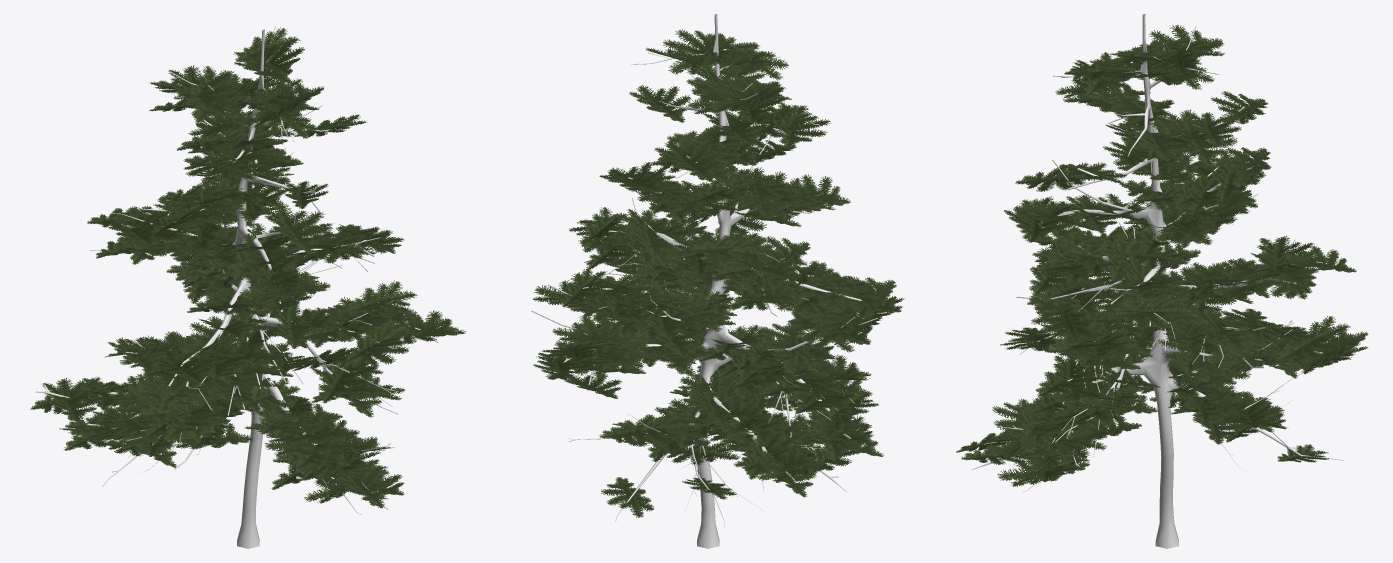
The model's file is Pine3.fbx.
The picture shows the model from 3 angles, left to right: view 1: azimuth 30°, elevation 25°; view 2: azimuth 150°, elevation 25°; view 3: azimuth 270°, elevation 25°; orthographic projection. The views are drawn at different scales.
Parts seen in each view (by area): view 1: tree.006|pngtree-natural-pine-tree-branch-close-up-element-p (×58), tree.006; view 2: tree.006|pngtree-natural-pine-tree-branch-close-up-element-p (×82), tree.006; view 3: tree.006|pngtree-natural-pine-tree-branch-close-up-element-p (×73), tree.006.
Boxes of the visible parts, x1,y1,x2,y2 form: tree.006|pngtree-natural-pine-tree-branch-close-up-element-p (×58): (30, 27, 465, 508); tree.006: (35, 26, 438, 548); tree.006|pngtree-natural-pine-tree-branch-close-up-element-p (×82): (533, 29, 901, 517); tree.006: (531, 14, 877, 548); tree.006|pngtree-natural-pine-tree-branch-close-up-element-p (×73): (961, 25, 1368, 486); tree.006: (972, 14, 1351, 548).
Bounding box in the file's own units: 1567 × 2194 × 1616.
